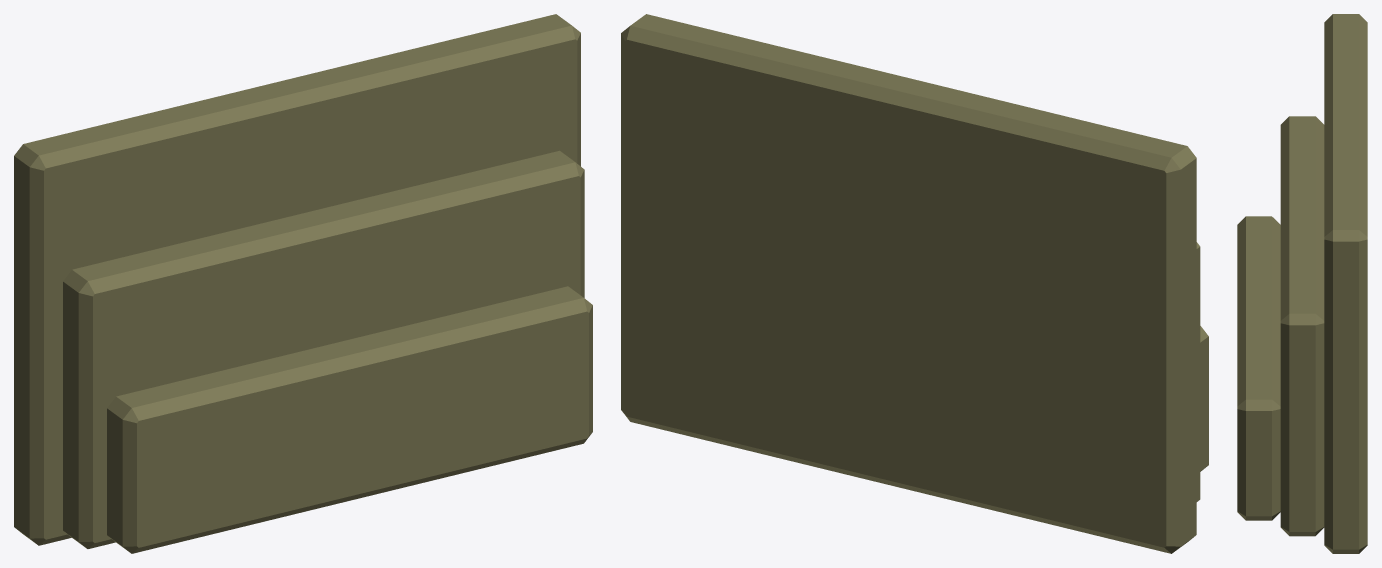
The model's file is CottageStep.obj.
The picture shows the model from 3 angles, left to right: view 1: azimuth 30°, elevation 25°; view 2: azimuth 150°, elevation 25°; view 3: azimuth 270°, elevation 25°; orthographic projection. The views are drawn at different scales.
Parts seen in each view (by area): view 1: CottageStep; view 2: CottageStep; view 3: CottageStep.
Boxes of the visible parts, x1,y1,x2,y2 form: CottageStep: [14, 14, 592, 553]; CottageStep: [621, 14, 1208, 553]; CottageStep: [1237, 14, 1367, 553].
Bounding box in the file's own units: 170 × 115 × 42.
